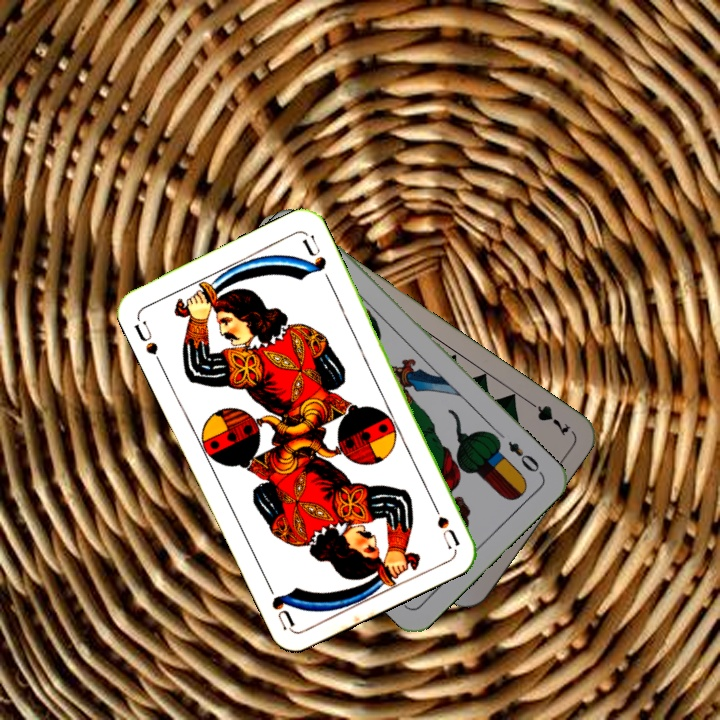EO: (504, 437, 546, 478)
G7: (521, 394, 574, 439)
SU: (426, 494, 463, 551), (130, 316, 161, 358)
